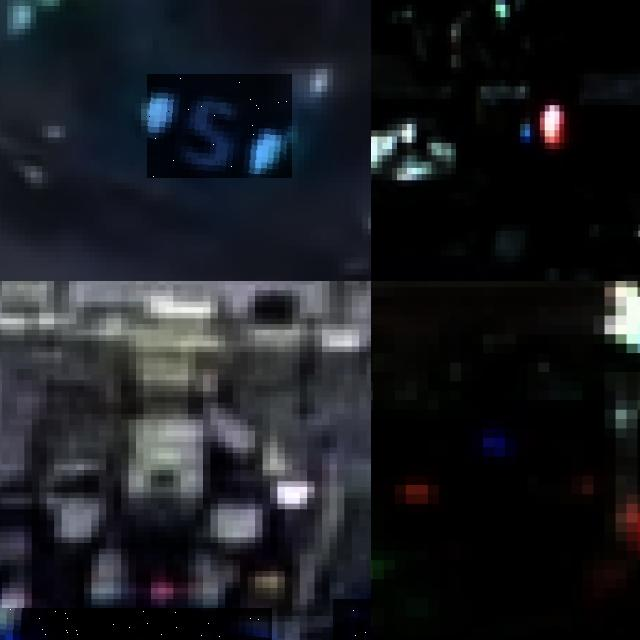B1: (0, 607, 273, 640)
B5: (147, 74, 292, 178)
